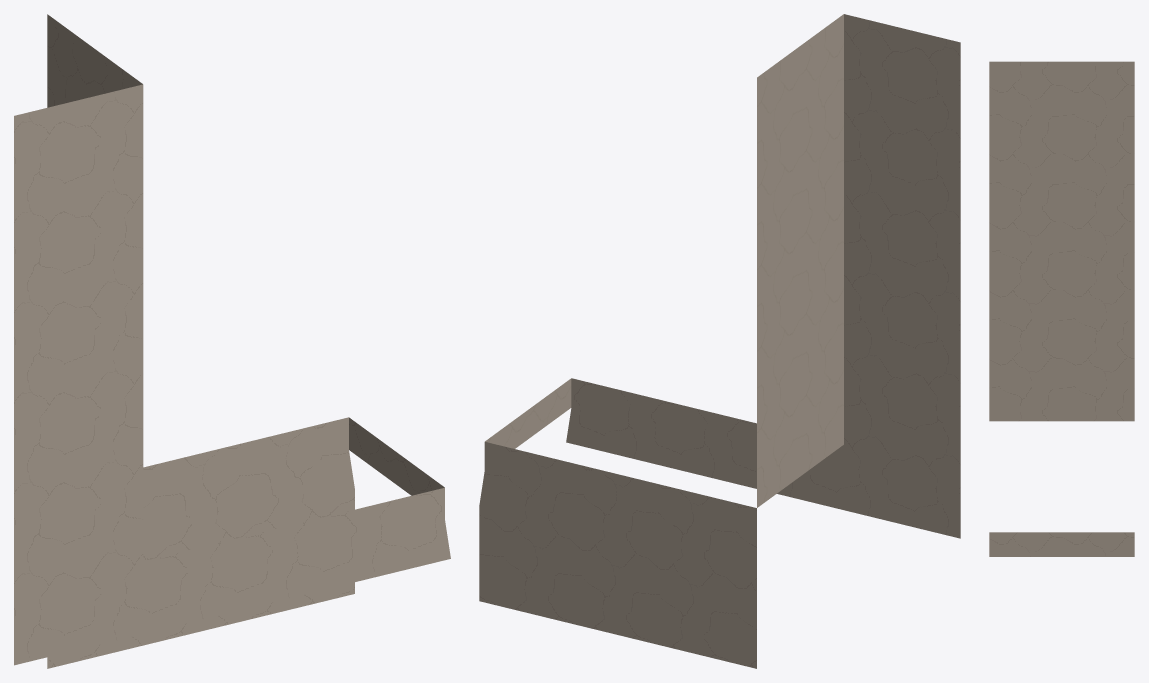
The model's file is kd_stage_135d18_4_141.glb.
3 views of the same model, side by side, from view 1: azimuth 30°, elevation 25°; view 2: azimuth 150°, elevation 25°; view 3: azimuth 270°, elevation 25° (orthographic). The views are drawn at different scales.
Parts seen in each view (by area): view 1: kd_stage_135d18_4_141; view 2: kd_stage_135d18_4_141; view 3: kd_stage_135d18_4_141.
Part boxes in pixels (box(x1,y1,x2,y2)): kd_stage_135d18_4_141: box(14, 14, 450, 668); kd_stage_135d18_4_141: box(479, 14, 960, 668); kd_stage_135d18_4_141: box(989, 61, 1134, 556).
Bounding box in the file's own units: 2.06 × 2.95 × 0.7834.
1 material, 1 textured.
